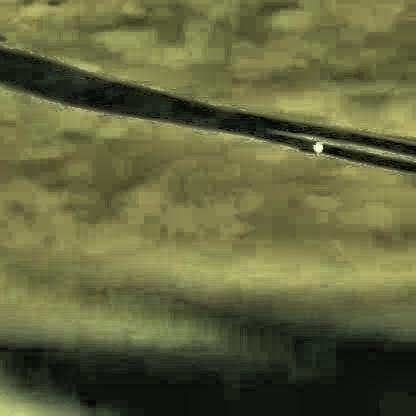golfball: (306, 138, 322, 151)
